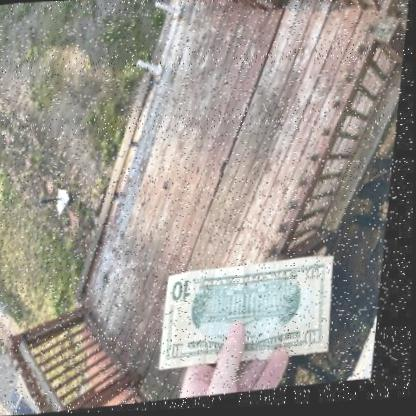ten-back: (167, 260, 345, 371)
